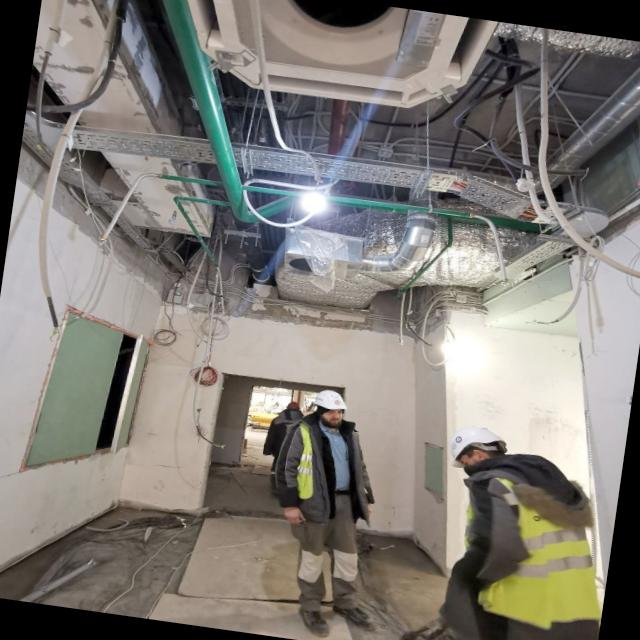Helmet: (448, 425, 510, 474), (312, 389, 351, 414), (288, 402, 302, 411)
Jacket: (462, 468, 602, 625), (291, 417, 364, 515)
NoJacket: (276, 413, 298, 449)
